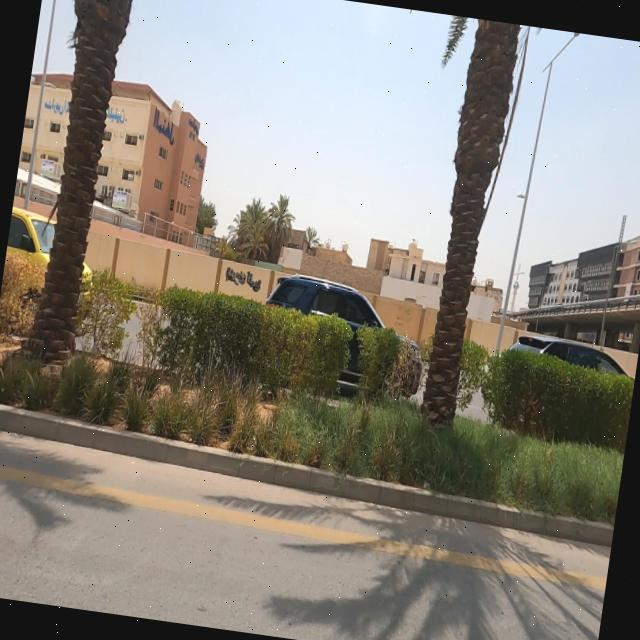Graffiti: (223, 267, 265, 295), (395, 306, 413, 330)
